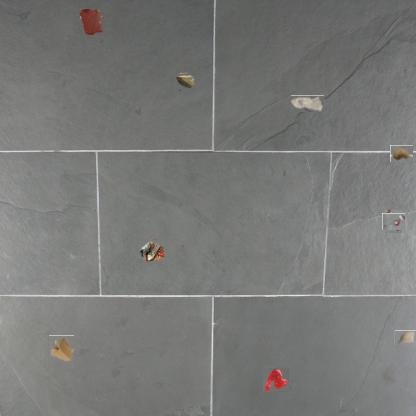dirty: (48, 335, 74, 362), (138, 239, 164, 265), (290, 95, 324, 112), (383, 212, 404, 232), (390, 145, 413, 162), (175, 72, 194, 92), (394, 330, 416, 345)
liquid: (77, 7, 105, 35), (263, 367, 289, 392)
